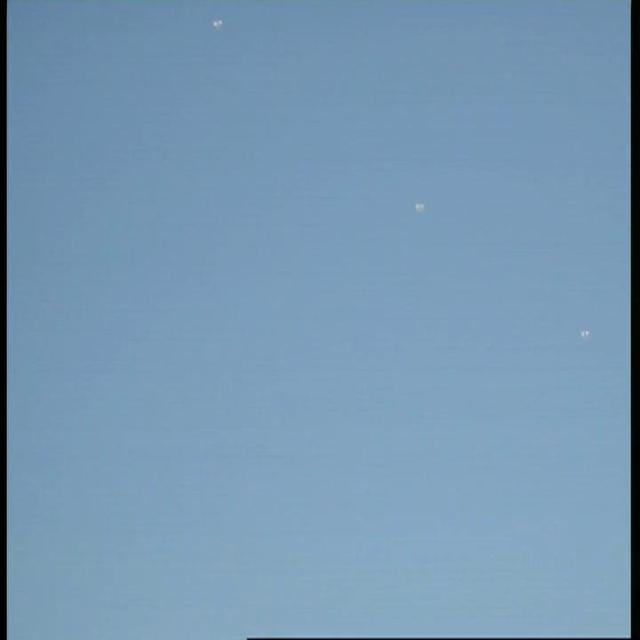drone: (411, 198, 428, 216), (576, 326, 593, 342), (212, 17, 224, 29)
